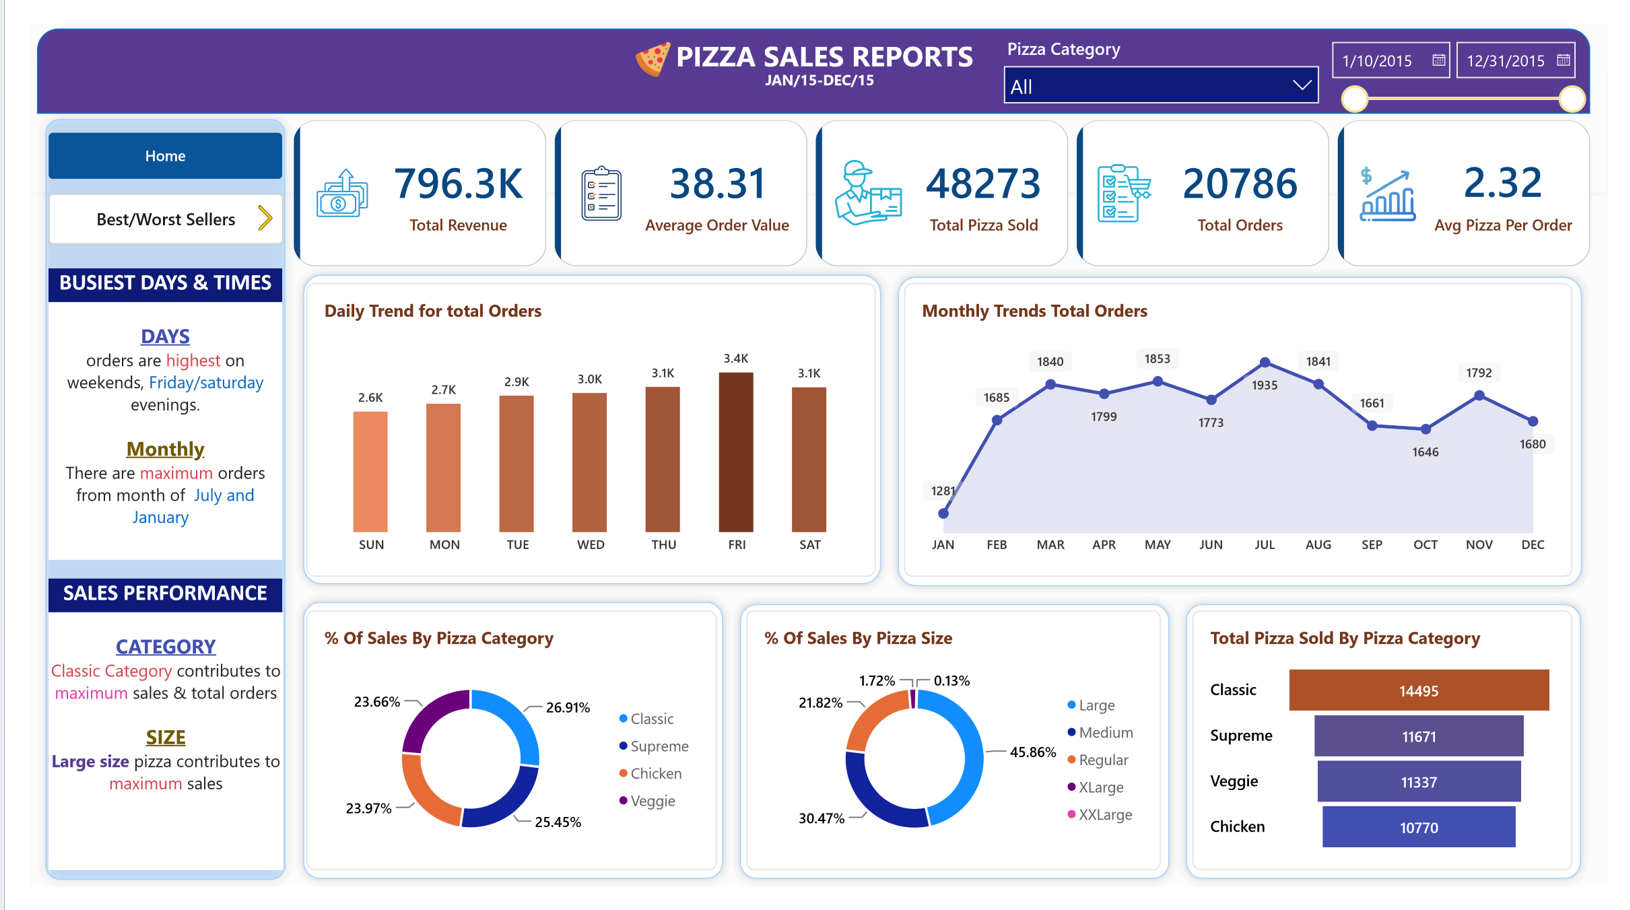

The page's visual inventory and layout, read from the dashboard file:
{"tool":"powerbi","page":{"name":"Home","canvas":[1500,820],"ordinal":0},"visuals":[{"type":"cardVisual","fields":{"Data":["public pizza_sales.Total_Revenue","public pizza_sales.Average_Order_Value","public pizza_sales.Total_Pizza_Sold","public pizza_sales.Total_Orders","public pizza_sales.Average_Pizza_Per_Order"]},"box":[251.2,91.4,1231.7,138.7],"z":0},{"type":"shape","box":[7.1,3.5,1476.3,81.6],"z":1000},{"type":"textbox","box":[608.7,10.9,293.5,39.9],"z":2000},{"type":"textbox","box":[693.8,43.5,114.1,21.7],"z":3000},{"type":"image","box":[563.4,16.3,58,34.4],"z":4000},{"type":"shape","box":[251.8,230.1,565,310],"z":5000},{"type":"columnChart","title":"Daily Trend for total Orders","fields":{"Category":["public pizza_sales.Order Day"],"Y":["public pizza_sales.Total_Orders"]},"box":[262.7,246.4,541.6,279],"z":6000},{"type":"shape","box":[817.3,231.6,665.6,310],"z":7000},{"type":"areaChart","title":"Monthly Trends Total Orders","fields":{"Y":["public pizza_sales.Total_Orders"],"Category":["public pizza_sales.Order Month"]},"box":[831.5,246.4,634,279],"z":8000},{"type":"shape","box":[252,541.2,415.2,278.6],"z":9000},{"type":"shape","box":[667.2,543,424.1,276.8],"z":10000},{"type":"shape","box":[1091.3,543,390.4,276.8],"z":11000},{"type":"shape","box":[6.5,81.6,244.7,739],"z":12000},{"type":"donutChart","title":"% Of Sales By Pizza Category","fields":{"Category":["public pizza_sales.pizza_category"],"Y":["public pizza_sales.Total_Revenue"]},"box":[262.6,557.2,390.4,246.6],"z":13000},{"type":"donutChart","title":"% Of Sales By Pizza Size","fields":{"Y":["public pizza_sales.Total_Revenue"],"Category":["public pizza_sales.pizza_size"]},"box":[681.4,557.2,393.9,246.6],"z":14000},{"type":"funnel","title":"Total Pizza Sold By Pizza Category","fields":{"Category":["public pizza_sales.pizza_category"],"Y":["public pizza_sales.Total_Pizza_Sold"]},"box":[1105.5,557.2,360.2,246.6],"z":15000},{"type":"textbox","box":[17.7,232.5,221.8,31.9],"z":16000},{"type":"textbox","box":[17.7,527,221.8,31.9],"z":17000},{"type":"textbox","box":[17.7,264.4,221.8,244.9],"z":18000},{"type":"textbox","box":[17.7,559,223.6,244.9],"z":19000},{"type":"slicer","fields":{"Values":["public pizza_sales.pizza_category"]},"box":[920.9,12.4,308.8,69.2],"z":20000},{"type":"slicer","fields":{"Values":["public pizza_sales.order_date"]},"box":[1229.7,12.4,252,78.1],"z":21000},{"type":"pageNavigator","box":[17.7,102.9,221.8,44.4],"z":22000},{"type":"pageNavigator","box":[17.7,161.5,223.6,47.9],"z":23000},{"type":"image","box":[208.3,172.1,30.8,23.5],"z":24000}]}

Visuals, with their boxes in screenshot pixels (x1, y1, x2, y2), scaled from the page's 1500x820 canvas onto the 1630x910 screenshot:
cardVisual - public pizza_sales.Total_Revenue x public pizza_sales.Average_Order_Value: [left=273, top=101, right=1611, bottom=255]
shape: [left=8, top=4, right=1612, bottom=94]
textbox: [left=661, top=12, right=980, bottom=56]
textbox: [left=754, top=48, right=878, bottom=72]
image: [left=612, top=18, right=675, bottom=56]
shape: [left=274, top=255, right=888, bottom=599]
"Daily Trend for total Orders" columnChart: [left=285, top=273, right=874, bottom=583]
shape: [left=888, top=257, right=1611, bottom=601]
"Monthly Trends Total Orders" areaChart: [left=904, top=273, right=1593, bottom=583]
shape: [left=274, top=601, right=725, bottom=909]
shape: [left=725, top=603, right=1186, bottom=909]
shape: [left=1186, top=603, right=1610, bottom=909]
shape: [left=7, top=91, right=273, bottom=909]
"% Of Sales By Pizza Category" donutChart: [left=285, top=618, right=710, bottom=892]
"% Of Sales By Pizza Size" donutChart: [left=740, top=618, right=1168, bottom=892]
"Total Pizza Sold By Pizza Category" funnel: [left=1201, top=618, right=1593, bottom=892]
textbox: [left=19, top=258, right=260, bottom=293]
textbox: [left=19, top=585, right=260, bottom=620]
textbox: [left=19, top=293, right=260, bottom=565]
textbox: [left=19, top=620, right=262, bottom=892]
slicer - public pizza_sales.pizza_category: [left=1001, top=14, right=1336, bottom=91]
slicer - public pizza_sales.order_date: [left=1336, top=14, right=1610, bottom=100]
pageNavigator: [left=19, top=114, right=260, bottom=163]
pageNavigator: [left=19, top=179, right=262, bottom=232]
image: [left=226, top=191, right=260, bottom=217]
